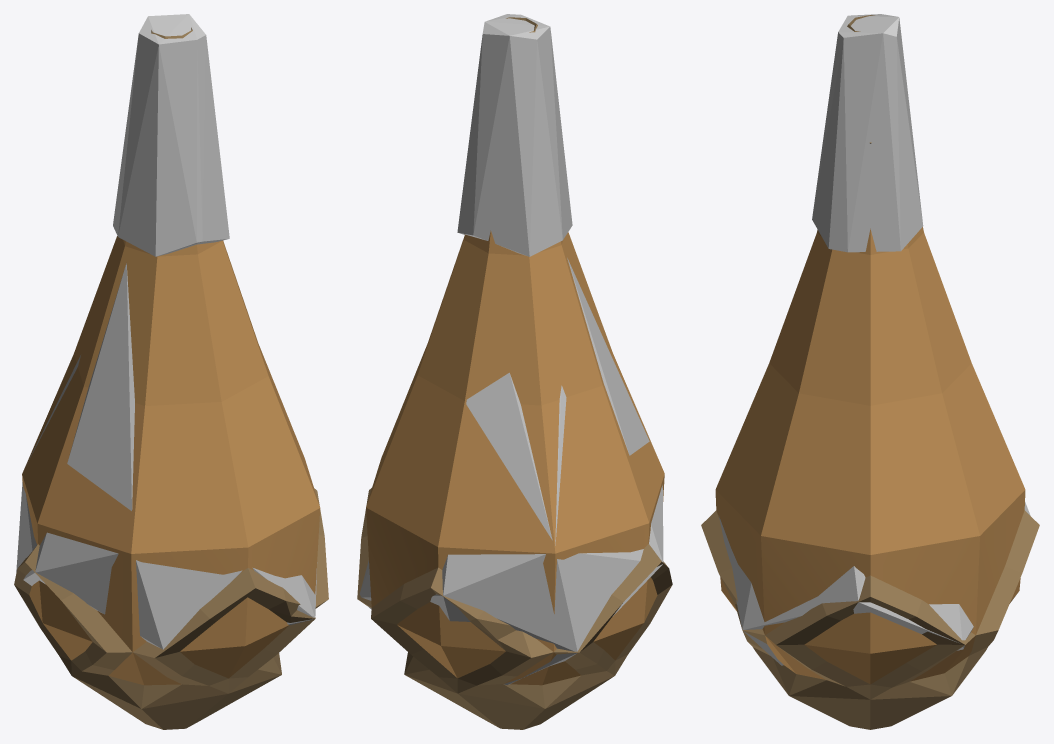
Rendered from SM_Prop_Pot_02.fbx.
The picture shows the model from 3 angles, left to right: view 1: azimuth 30°, elevation 25°; view 2: azimuth 150°, elevation 25°; view 3: azimuth 270°, elevation 25°; orthographic projection.
Visible parts, largest first — view 1: SM_Prop_Pot_02, SM_Prop_Pot_02_ConvexHulls; view 2: SM_Prop_Pot_02, SM_Prop_Pot_02_ConvexHulls; view 3: SM_Prop_Pot_02, SM_Prop_Pot_02_ConvexHulls.
Part boxes in pixels (x1,y1,x2,y2): SM_Prop_Pot_02: [14, 27, 328, 729]; SM_Prop_Pot_02_ConvexHulls: [16, 14, 317, 649]; SM_Prop_Pot_02: [357, 17, 672, 729]; SM_Prop_Pot_02_ConvexHulls: [359, 14, 663, 684]; SM_Prop_Pot_02: [701, 15, 1039, 729]; SM_Prop_Pot_02_ConvexHulls: [719, 14, 1030, 665].
Size of the model in its own units: 44.05 by 44.05 by 99.86.
2 materials, 1 textured.
